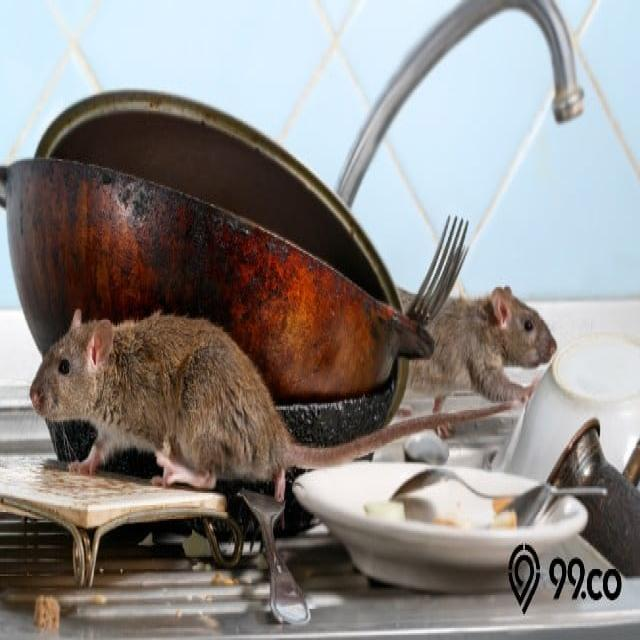rat: (22, 302, 296, 499), (393, 272, 568, 442)
